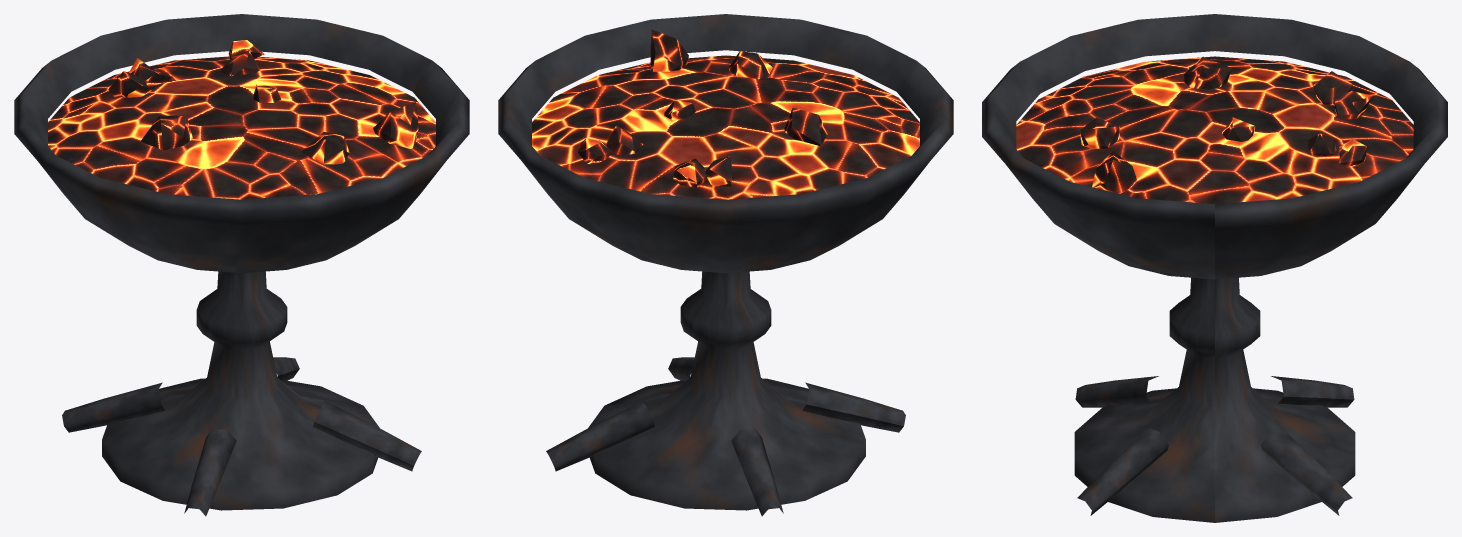
The model's file is brazier.glb.
The picture shows the model from 3 angles, left to right: view 1: azimuth 30°, elevation 25°; view 2: azimuth 150°, elevation 25°; view 3: azimuth 270°, elevation 25°; orthographic projection. The views are drawn at different scales.
Size of the model in its own units: 2.04 by 1.73 by 2.01.
2 materials, 2 textured.
